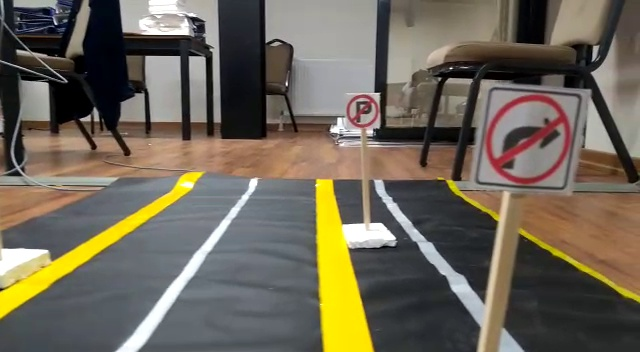park_yapilmaz: (344, 92, 381, 129)
saga_donulmez: (488, 83, 570, 190)
